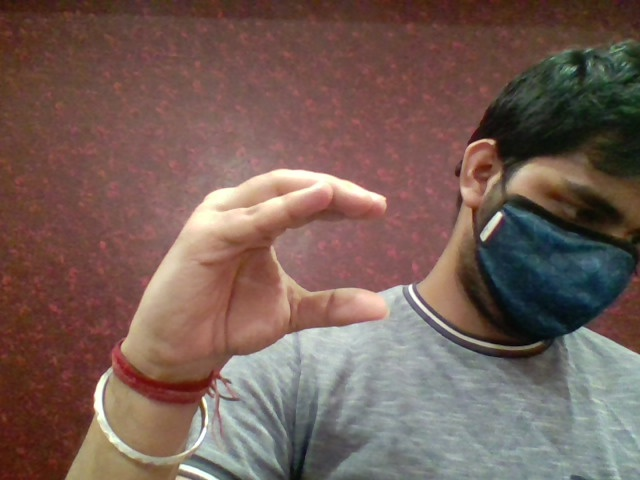c: (151, 160, 393, 334)
